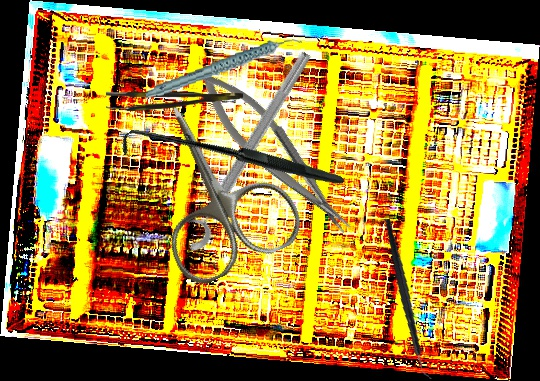Chopper: (365, 218, 454, 380)
Fixation Ring: (168, 41, 318, 256)
Handpiece: (140, 36, 308, 101)
Hook Surgical: (116, 46, 345, 277)
Iris Scissors: (115, 78, 311, 293)
Needle Holder: (186, 55, 360, 249)
Tissue Forceps: (106, 91, 243, 111)
